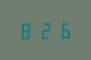eight: (18, 20, 35, 40)
six: (55, 19, 72, 39)
two: (37, 20, 54, 39)
